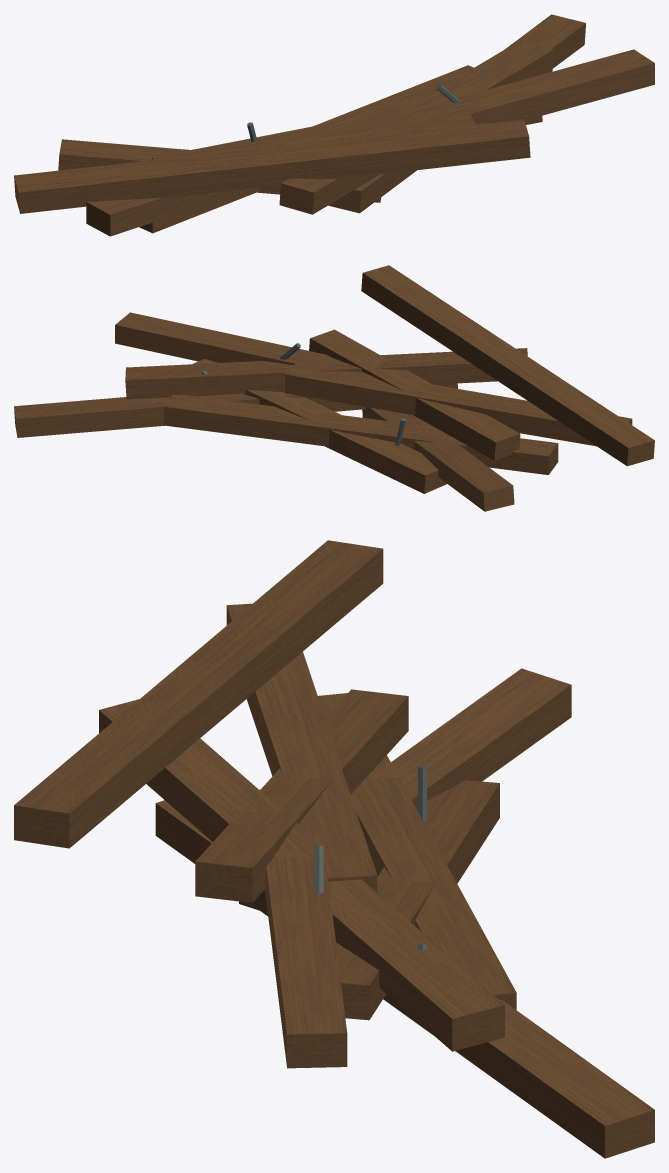
Rendered from en-002_broken_plank_pile__medium.obj.
3 views of the same model, one above another, from view 1: azimuth 30°, elevation 25°; view 2: azimuth 150°, elevation 25°; view 3: azimuth 270°, elevation 25° (orthographic). The views are drawn at different scales.
Parts seen in each view (by area): view 1: en-002_broken_plank_pile__medium; view 2: en-002_broken_plank_pile__medium; view 3: en-002_broken_plank_pile__medium.
Part boxes in pixels (bbox=[...]): en-002_broken_plank_pile__medium: bbox=[14, 14, 654, 236]; en-002_broken_plank_pile__medium: bbox=[14, 265, 654, 511]; en-002_broken_plank_pile__medium: bbox=[14, 540, 654, 1158].
Size of the model in its own units: 2.06 by 0.3237 by 1.12.
2 materials, 2 textured.
